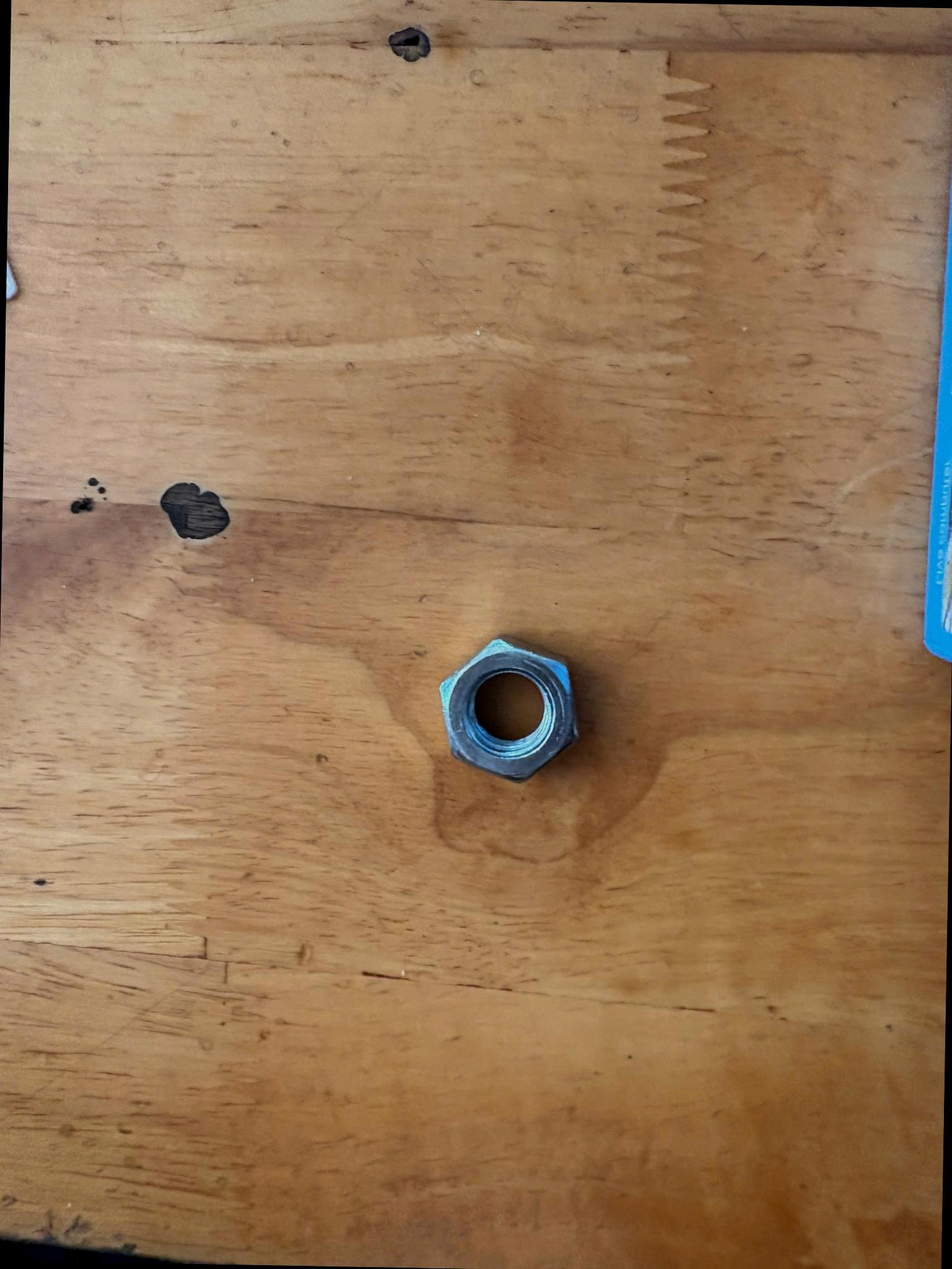nut: (417, 617, 590, 797)
